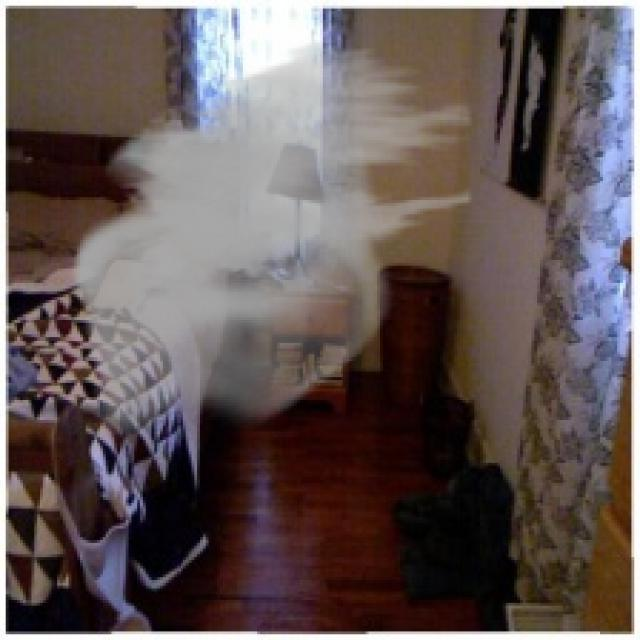Smoke: (72, 37, 474, 437)
